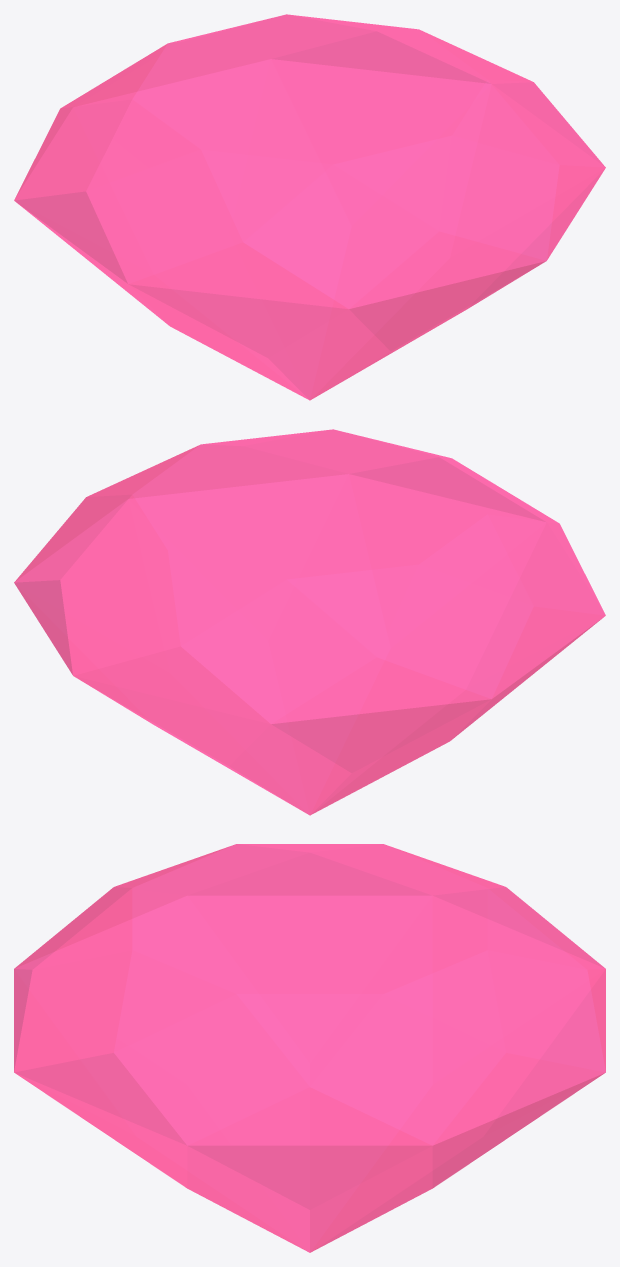
The model's file is gem_dark.glb.
The picture shows the model from 3 angles, top to bottom: view 1: azimuth 30°, elevation 25°; view 2: azimuth 150°, elevation 25°; view 3: azimuth 270°, elevation 25°; orthographic projection. The views are drawn at different scales.
Parts seen in each view (by area): view 1: Gem; view 2: Gem; view 3: Gem.
Boxes of the visible parts, <box> form: Gem: <box>14,14,605,400</box>; Gem: <box>14,429,605,815</box>; Gem: <box>14,844,605,1252</box>.
Size of the model in its own units: 1.35 by 0.8399 by 1.35.
1 material, 1 textured.
